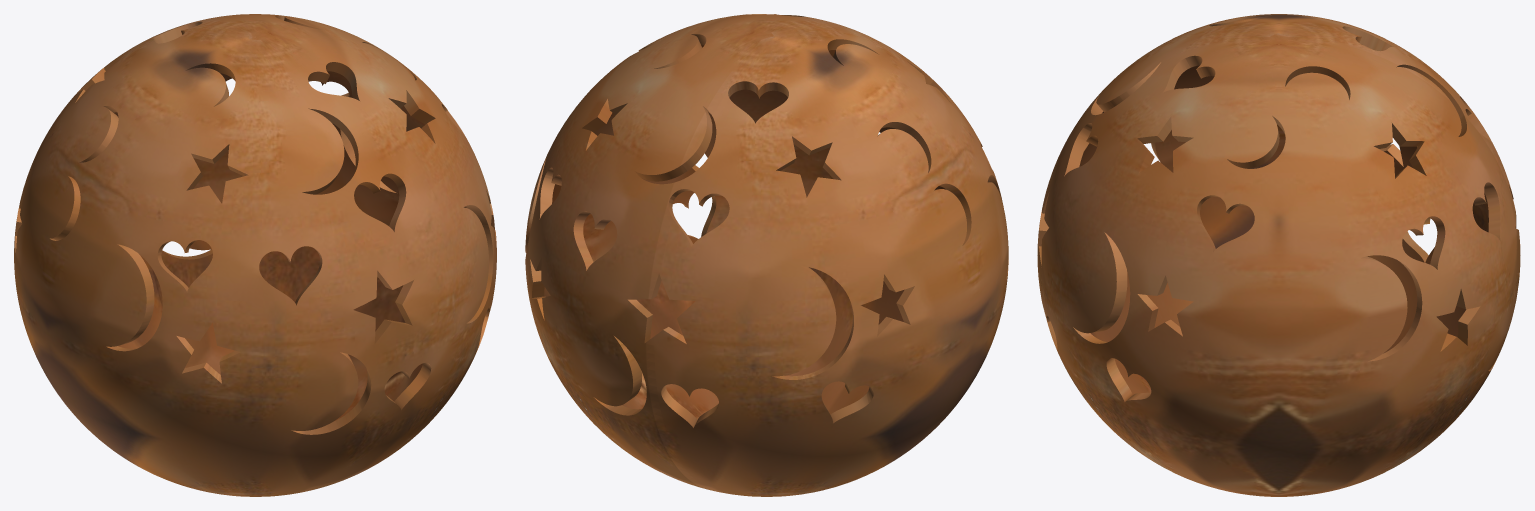
File: luminaria_23_05_web.glb
The picture shows the model from 3 angles, left to right: view 1: azimuth 30°, elevation 25°; view 2: azimuth 150°, elevation 25°; view 3: azimuth 270°, elevation 25°; orthographic projection.
Visible parts, largest first — view 1: Luminaria_de_Barro; view 2: Luminaria_de_Barro; view 3: Luminaria_de_Barro.
Part boxes in pixels (box(x1,y1,x2,y2)): Luminaria_de_Barro: box(14, 14, 496, 496); Luminaria_de_Barro: box(525, 14, 1008, 496); Luminaria_de_Barro: box(1037, 14, 1520, 496).
Size of the model in its own units: 0.3 by 0.2896 by 0.3.
Materials: 2 (2 with a texture image).
